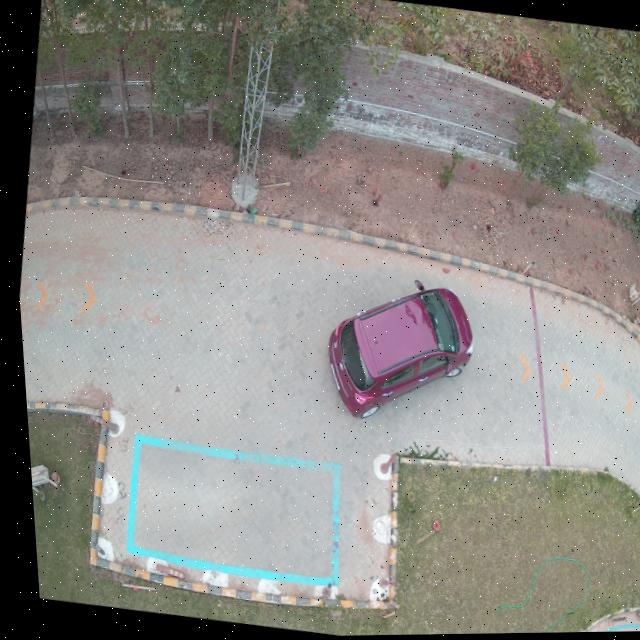car: (323, 283, 469, 419)
